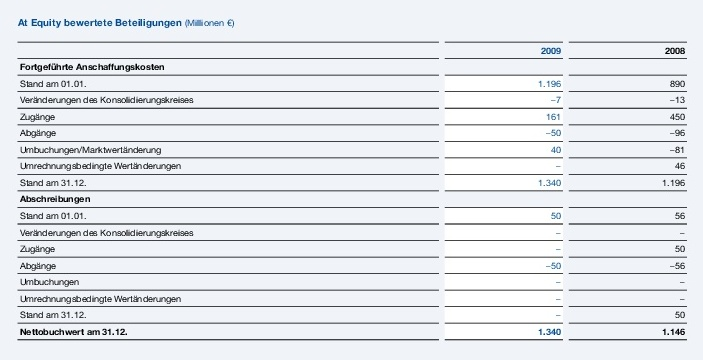table: (0, 0, 703, 360)
